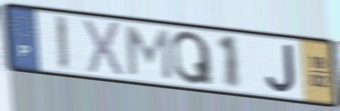1: (216, 34, 242, 91)
I: (53, 13, 71, 73)
J: (264, 42, 298, 95)
M: (124, 24, 174, 83)
Q: (169, 30, 216, 87)
X: (81, 17, 125, 79)
